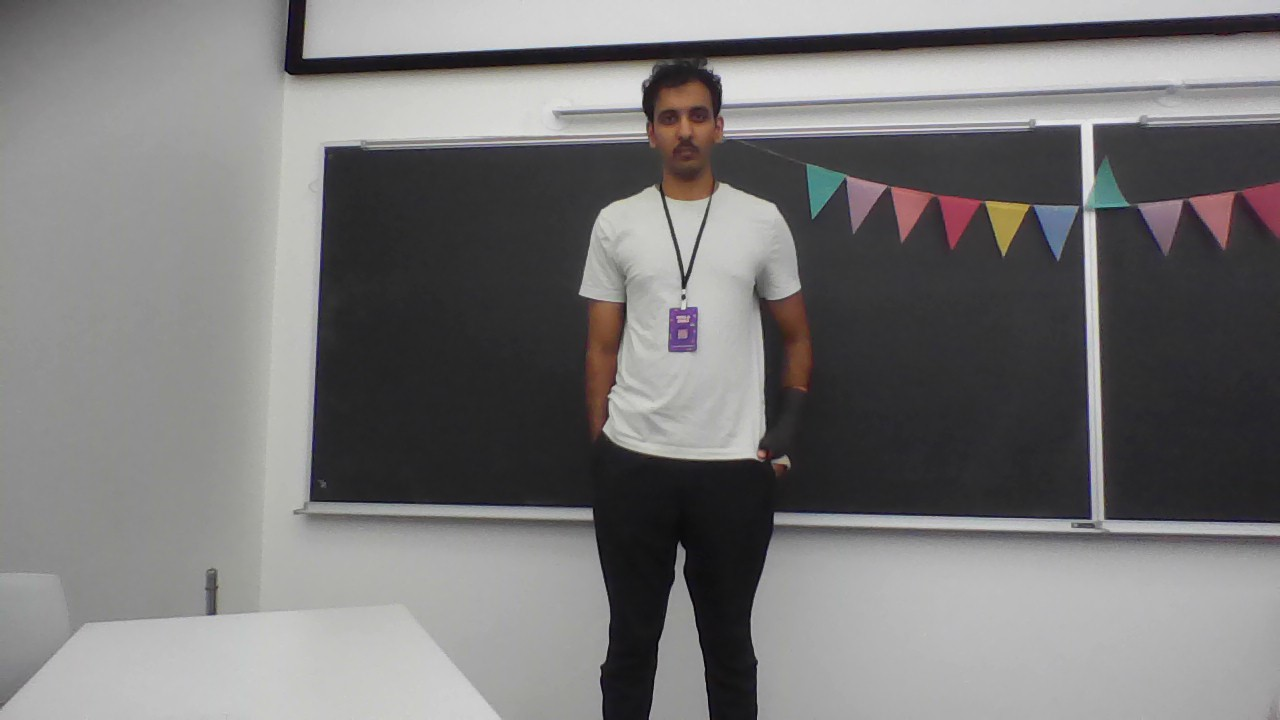height_frame: (524, 54, 838, 720)
hip_frame: (603, 433, 776, 478)
shoulder_frame: (598, 213, 786, 250)
waist_frame: (622, 343, 769, 380)
